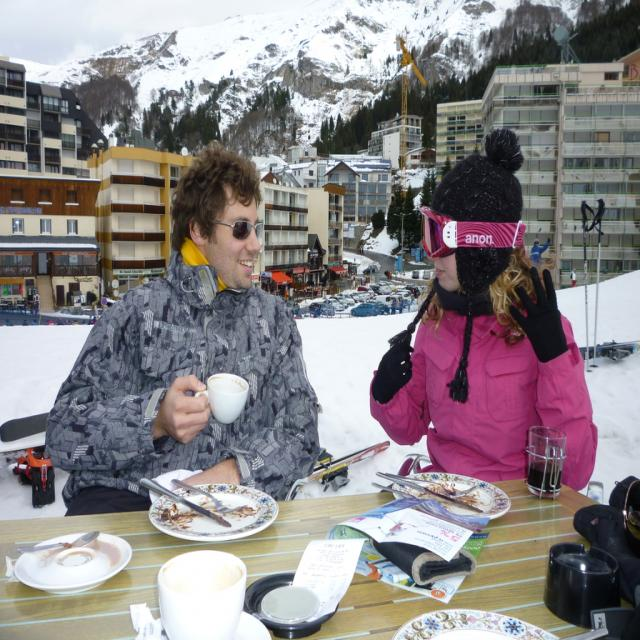non-organic waste: (368, 468, 518, 535), (144, 487, 282, 545), (12, 528, 131, 595), (387, 604, 564, 638)
